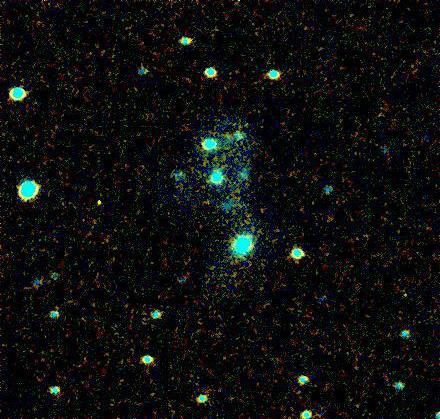star: (83, 189, 113, 219)
